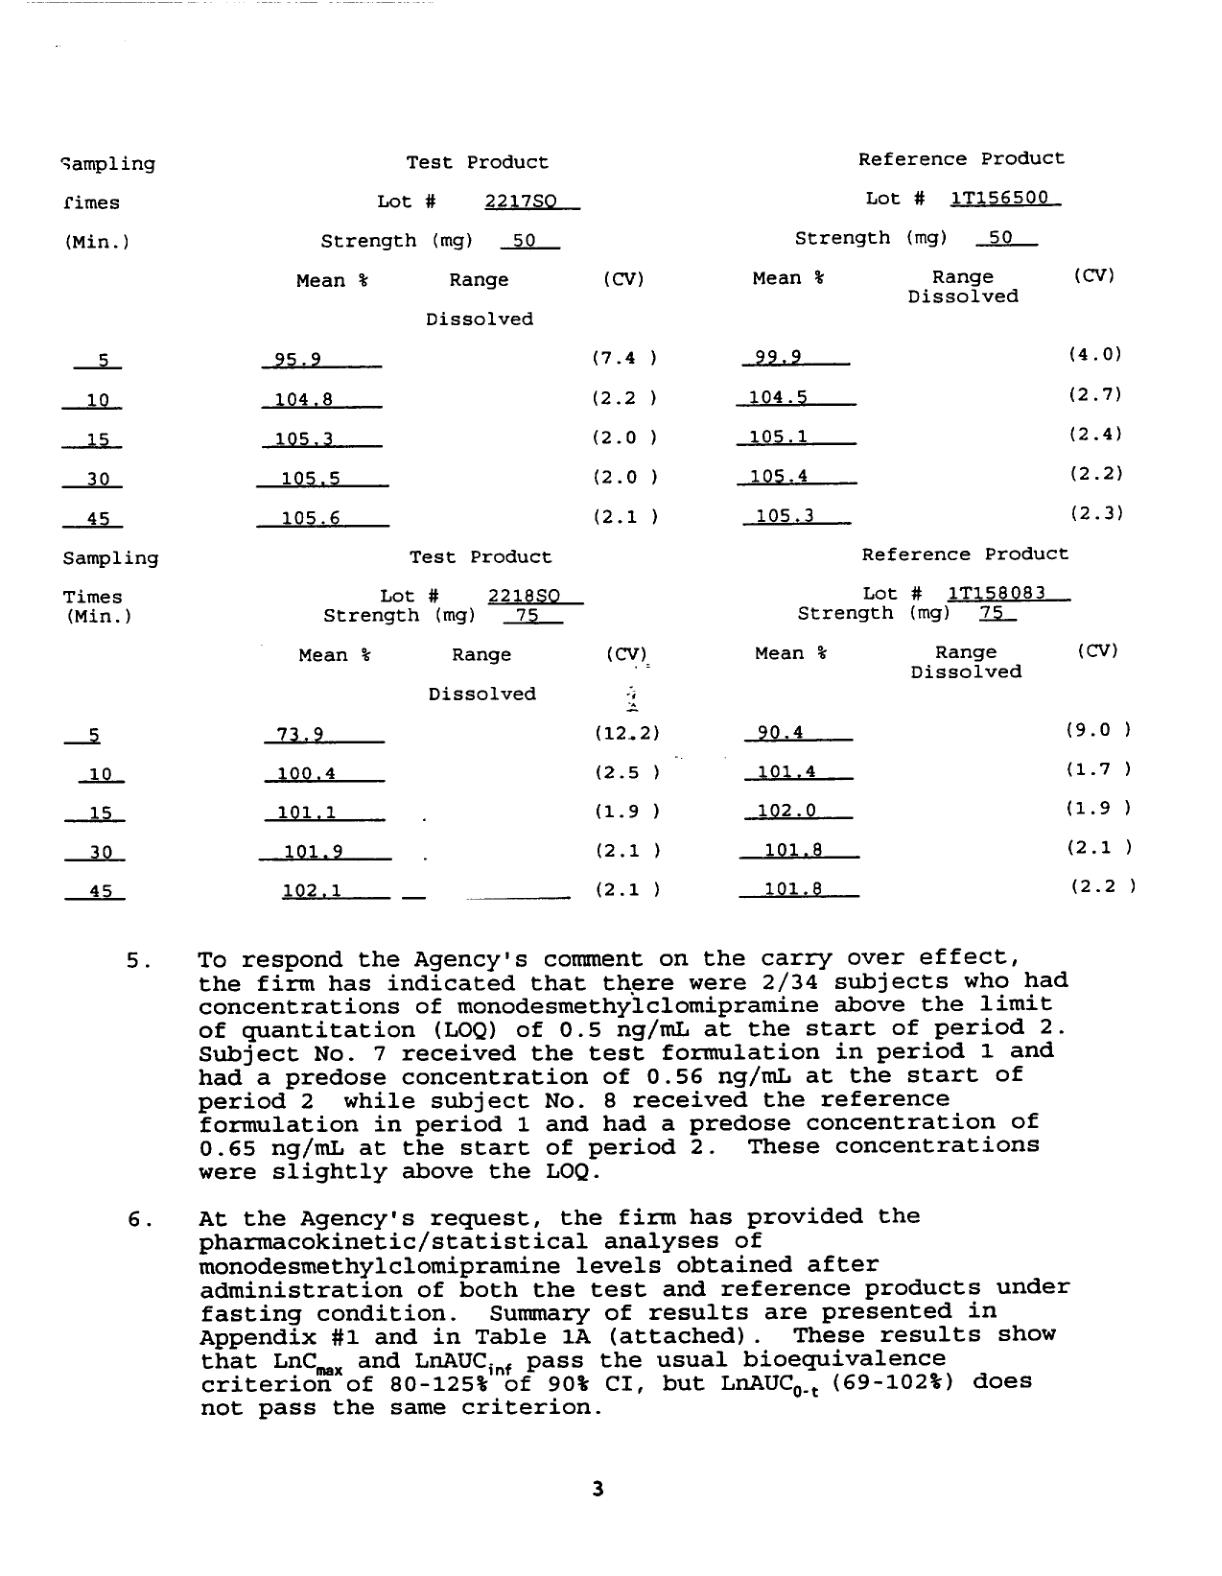nolines: (58, 150, 1127, 530), (58, 548, 1138, 904)
